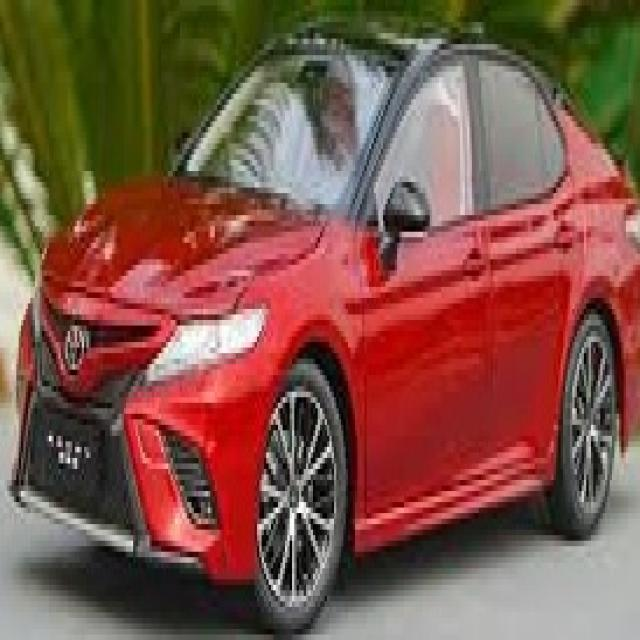red: (14, 1, 638, 622)
